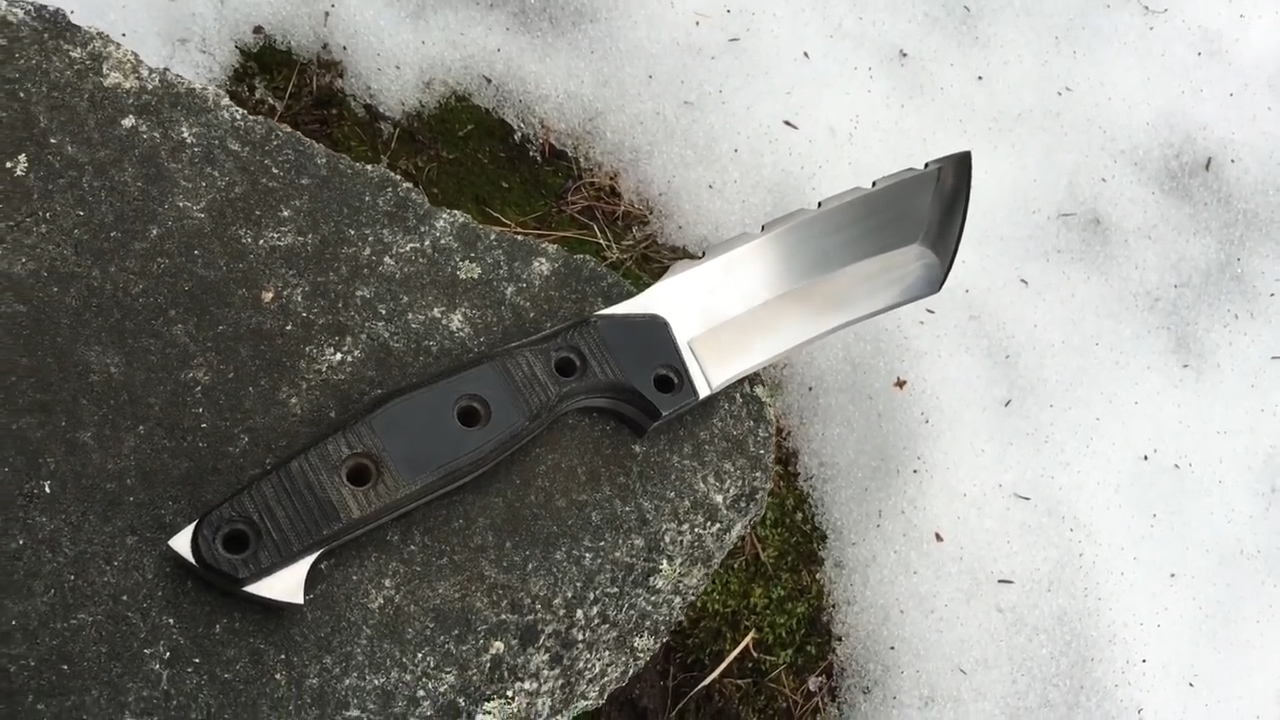knife: (559, 138, 1001, 430)
